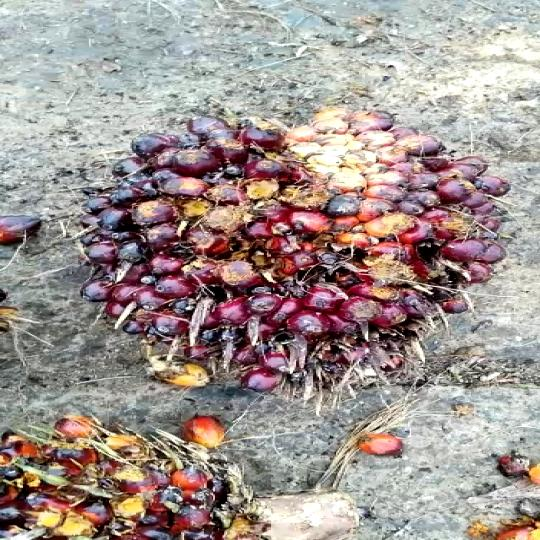masak: (77, 106, 509, 398)
